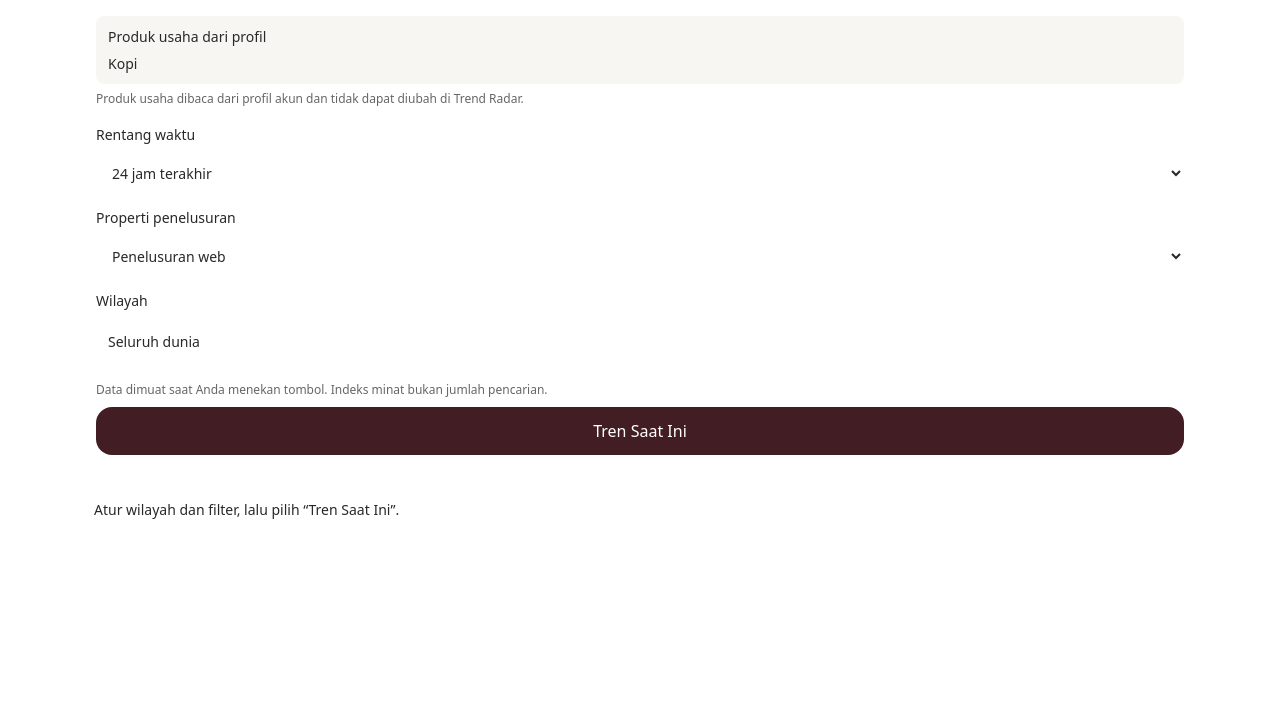
Test: TrendRadarPanel › renders a safe error state and does not expose provider details
The width and height of the screenshot is (1280, 720).
Click the button "Tren Saat Ini": click(640, 431) [96, 407, 1184, 455]
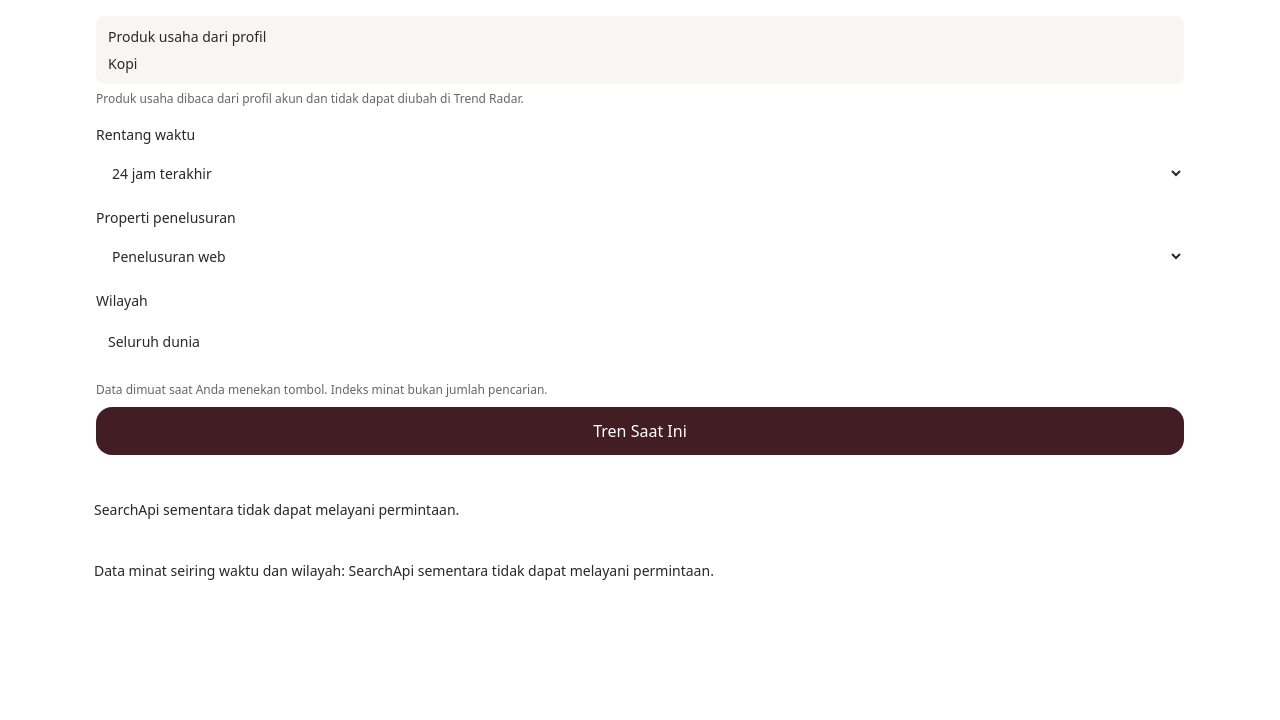
Expected: the text "SearchApi sementara tidak dapat melayani permintaan." is shown, [80, 487, 1200, 532]
